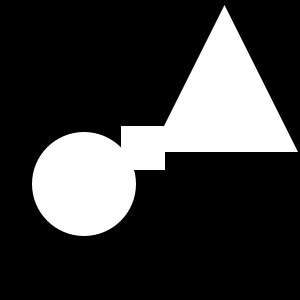circle: (121, 126, 165, 170)
rectangle: (32, 132, 136, 236)
triangle: (151, 5, 298, 152), (103, 144, 120, 161)
